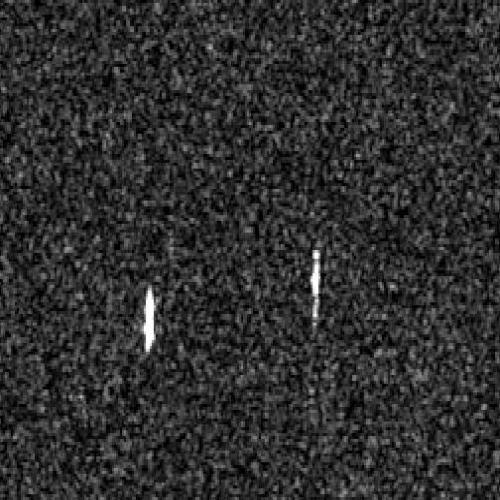ship: (309, 247, 322, 322), (142, 285, 155, 352)
